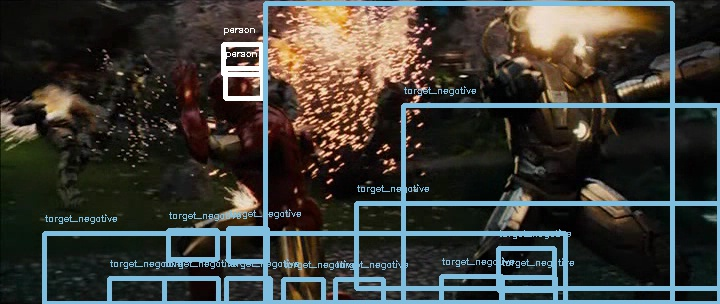person: (205, 64, 248, 113), (204, 64, 247, 113), (206, 64, 249, 113), (205, 63, 248, 112), (205, 65, 248, 114)
target_negative: (246, 31, 445, 200), (575, 251, 668, 281), (672, 83, 710, 121), (89, 245, 441, 247), (690, 32, 700, 93), (639, 261, 656, 290)
